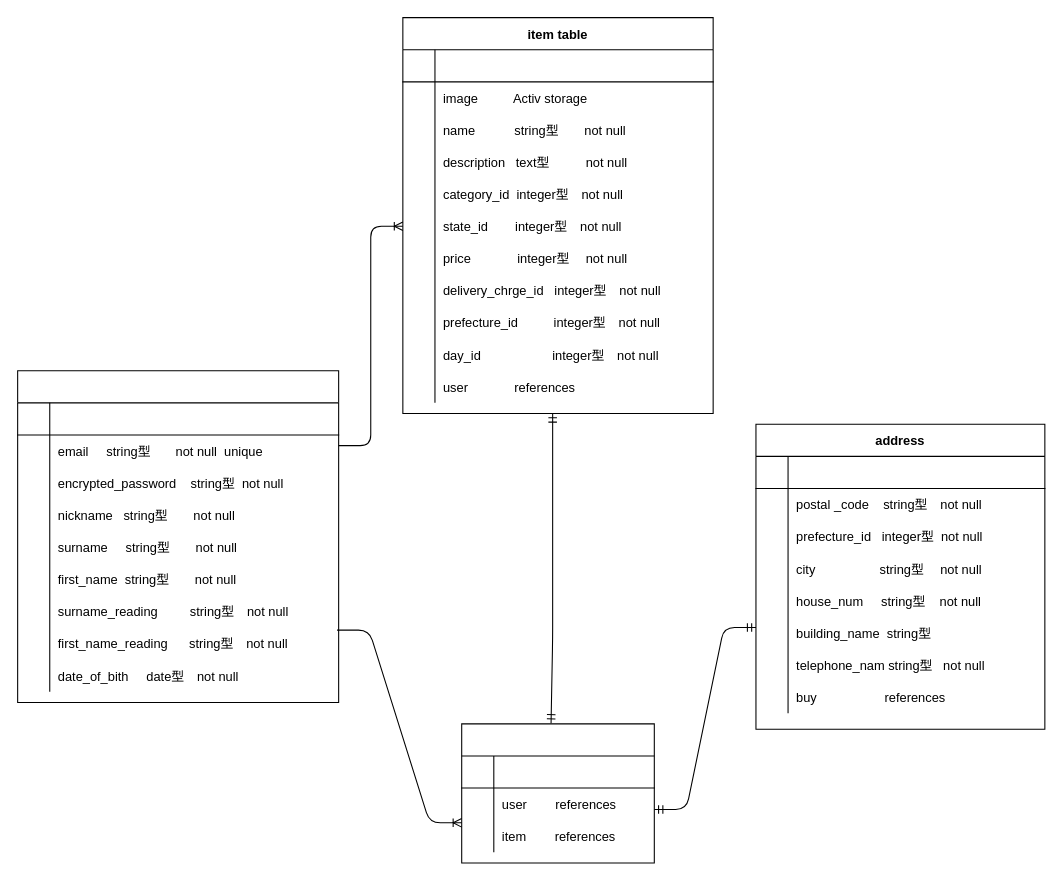
This 1063x881 diagram has some shape labels left out. The box of each missing label's shape, as (x1, y1, x2, y2) in pixels:
buy table: (461, 723, 654, 863)
user table: (17, 370, 339, 702)
